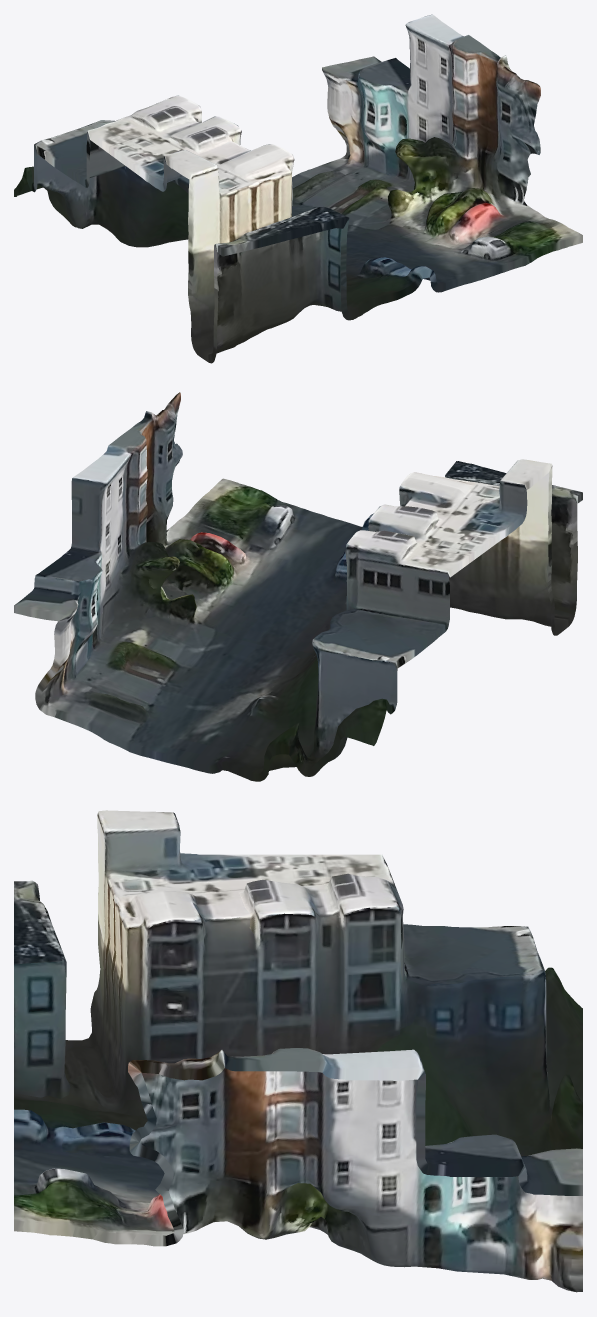
Rendered from z20-167751-405194-h0-yup-uvflip-v3-world.glb.
3 renders of one model, top to bottom at view 1: azimuth 30°, elevation 25°; view 2: azimuth 150°, elevation 25°; view 3: azimuth 270°, elevation 25°, orthographic. The views are drawn at different scales.
Bounding box in the file's own units: 30.16 × 17.68 × 30.32.
1 material, 1 textured.
